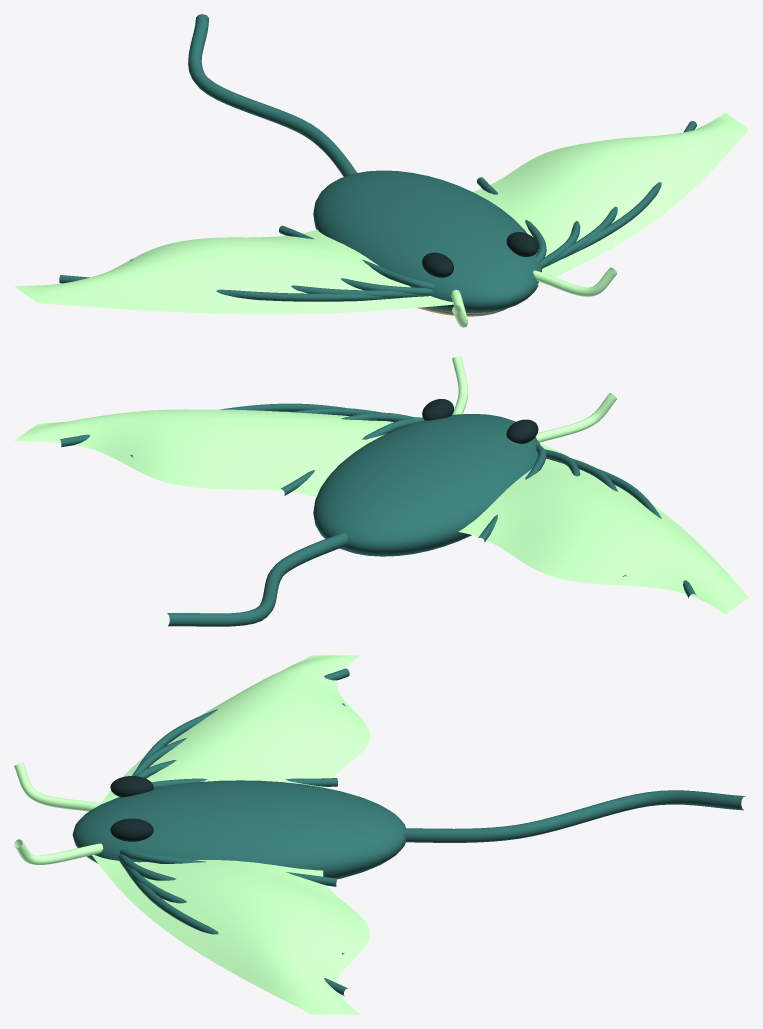
File: alien-ray.glb
3 renders of one model, top to bottom at view 1: azimuth 30°, elevation 25°; view 2: azimuth 150°, elevation 25°; view 3: azimuth 270°, elevation 25°, orthographic. The views are drawn at different scales.
Parts seen in each view (by area): view 1: Membrane_-1, OrganicBody, Membrane_1, CurvedTail, WingRib_-1_0.88, WingRib_1_0.88, Feelers, WingRib_-1_0.22, WingRib_-1_0.67, Eye_-1, Eye_1, WingRib_-1_0.44 (+2 smaller); view 2: OrganicBody, Membrane_-1, Membrane_1, CurvedTail, Feelers (×2), WingRib_1_0.88, WingRib_1_0.22, WingRib_-1_0.88, Eye_-1, Eye_1, WingRib_-1_0.22, WingRib_1_0.67 (+1 smaller); view 3: Membrane_1, OrganicBody, Membrane_-1, CurvedTail, Feelers (×2), WingRib_1_0.88, WingRib_1_0.22, Eye_1, WingRib_-1_0.88, Eye_-1, WingRib_-1_0.22.
Boxes of the visible parts, box(x1,y1,x2,y2) form: Membrane_-1: box(14, 229, 453, 314); OrganicBody: box(313, 170, 541, 313); Membrane_1: box(472, 112, 748, 285); CurvedTail: box(188, 14, 356, 176); WingRib_-1_0.88: box(59, 275, 406, 301); WingRib_1_0.88: box(559, 121, 696, 260); Feelers: box(533, 267, 616, 296); WingRib_-1_0.22: box(279, 225, 434, 289); WingRib_-1_0.67: box(130, 259, 430, 297); Eye_-1: box(422, 252, 453, 277); Eye_1: box(506, 232, 538, 256); WingRib_-1_0.44: box(341, 278, 432, 294); OrganicBody: box(313, 414, 540, 556); Membrane_-1: box(458, 442, 748, 614); Membrane_1: box(14, 409, 393, 496); CurvedTail: box(167, 532, 347, 626); Feelers (×2): box(452, 356, 616, 442); WingRib_1_0.88: box(60, 403, 393, 447); WingRib_1_0.22: box(281, 417, 423, 495); WingRib_-1_0.88: box(546, 457, 696, 598); Eye_-1: box(506, 419, 538, 443); Eye_1: box(422, 399, 453, 420); WingRib_-1_0.22: box(478, 444, 546, 542); WingRib_1_0.67: box(130, 408, 381, 457); Membrane_1: box(92, 855, 369, 1014); OrganicBody: box(72, 780, 405, 879); Membrane_-1: box(101, 655, 369, 803); CurvedTail: box(402, 790, 745, 842); Feelers (×2): box(14, 762, 103, 864); WingRib_1_0.88: box(126, 871, 347, 995); WingRib_1_0.22: box(120, 849, 337, 886); Eye_1: box(110, 818, 153, 841); WingRib_-1_0.88: box(137, 668, 349, 767); Eye_-1: box(110, 776, 153, 797); WingRib_-1_0.22: box(151, 778, 337, 788).
Bounding box in the file's own units: 4.72 × 0.5291 × 4.08.
